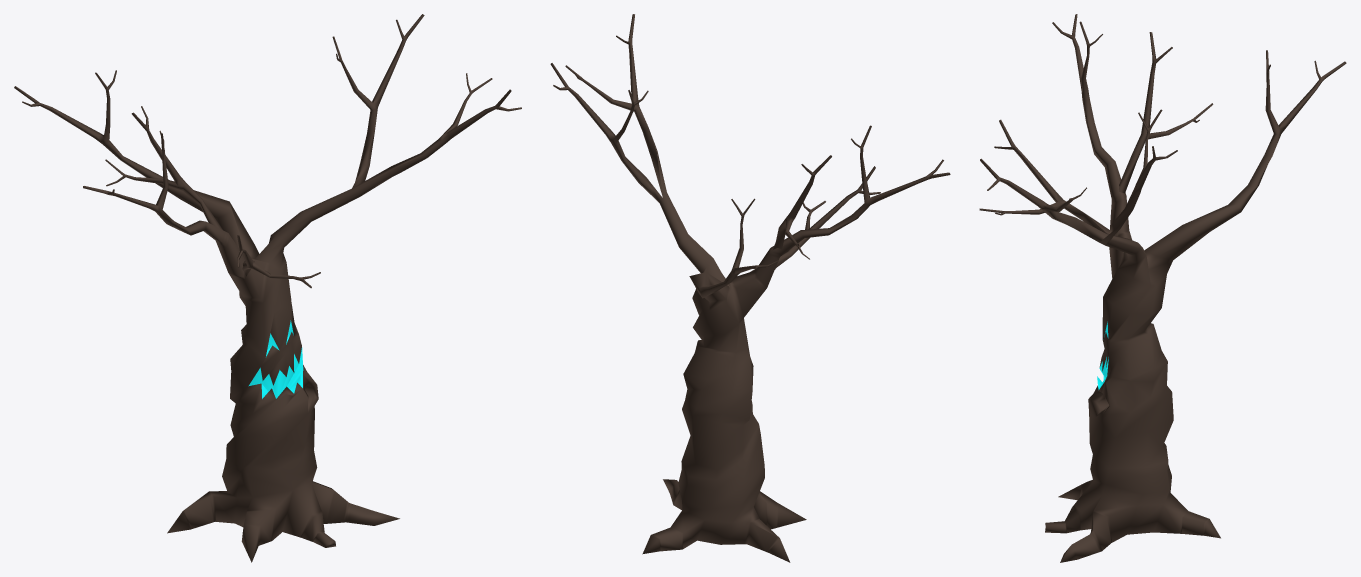
The picture shows the model from 3 angles, left to right: view 1: azimuth 30°, elevation 25°; view 2: azimuth 150°, elevation 25°; view 3: azimuth 270°, elevation 25°; orthographic projection. The views are drawn at different scales.
Parts seen in each view (by area): view 1: SpookyTree07; view 2: SpookyTree07; view 3: SpookyTree07.
Boxes of the visible parts, bbox=[...] form: SpookyTree07: bbox=[14, 14, 521, 562]; SpookyTree07: bbox=[550, 14, 950, 562]; SpookyTree07: bbox=[979, 14, 1346, 562].
Size of what is drawn, in the model's own units: 6.06 by 6.56 by 4.77.
Materials: 2 (2 with a texture image).
